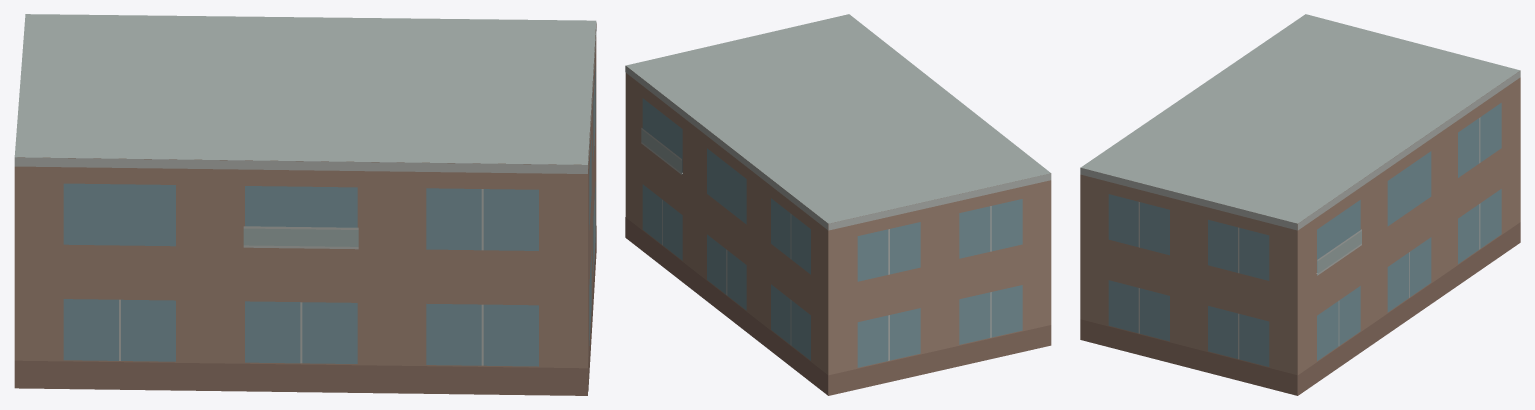
File: survey-upis-32942832.glb
3 renders of one model, left to right at view 1: azimuth 30°, elevation 25°; view 2: azimuth 150°, elevation 25°; view 3: azimuth 270°, elevation 25°, orthographic. The views are drawn at different scales.
Parts seen in each view (by area): view 1: survey-upis-32942832.tmp; view 2: survey-upis-32942832.tmp; view 3: survey-upis-32942832.tmp.
Part boxes in pixels (left/top/right/bottom): survey-upis-32942832.tmp: left=14, top=14, right=596, bottom=395; survey-upis-32942832.tmp: left=625, top=14, right=1051, bottom=395; survey-upis-32942832.tmp: left=1080, top=14, right=1520, bottom=395.
Size of the model in its own units: 15.94 by 6.1 by 14.14.
